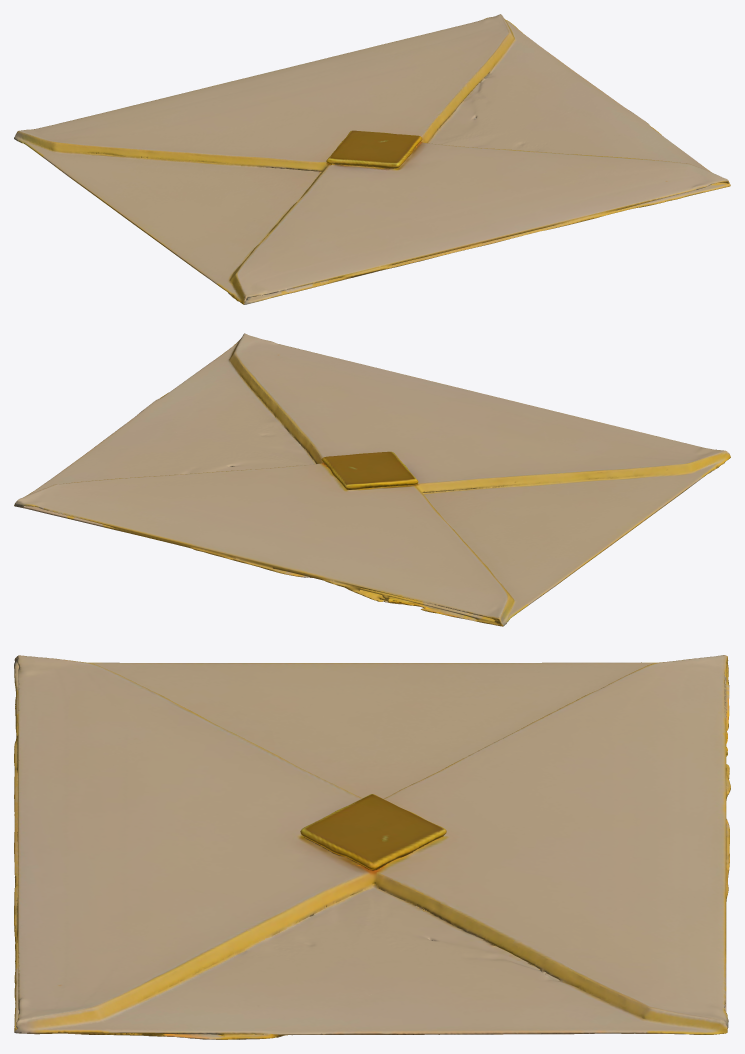
File: envelop1.glb
3 renders of one model, top to bottom at view 1: azimuth 30°, elevation 25°; view 2: azimuth 150°, elevation 25°; view 3: azimuth 270°, elevation 25°, orthographic. The views are drawn at different scales.
Parts seen in each view (by area): view 1: tripo_node_9c567582-ab04-4de6-abe3-e0649768ced0; view 2: tripo_node_9c567582-ab04-4de6-abe3-e0649768ced0; view 3: tripo_node_9c567582-ab04-4de6-abe3-e0649768ced0.
Part boxes in pixels (x1,y1,x2,y2): tripo_node_9c567582-ab04-4de6-abe3-e0649768ced0: (14, 14, 730, 304); tripo_node_9c567582-ab04-4de6-abe3-e0649768ced0: (14, 333, 730, 626); tripo_node_9c567582-ab04-4de6-abe3-e0649768ced0: (14, 655, 730, 1039).
Size of the model in its own units: 2.9 by 0.1225 by 2.35.
1 material, 1 textured.
